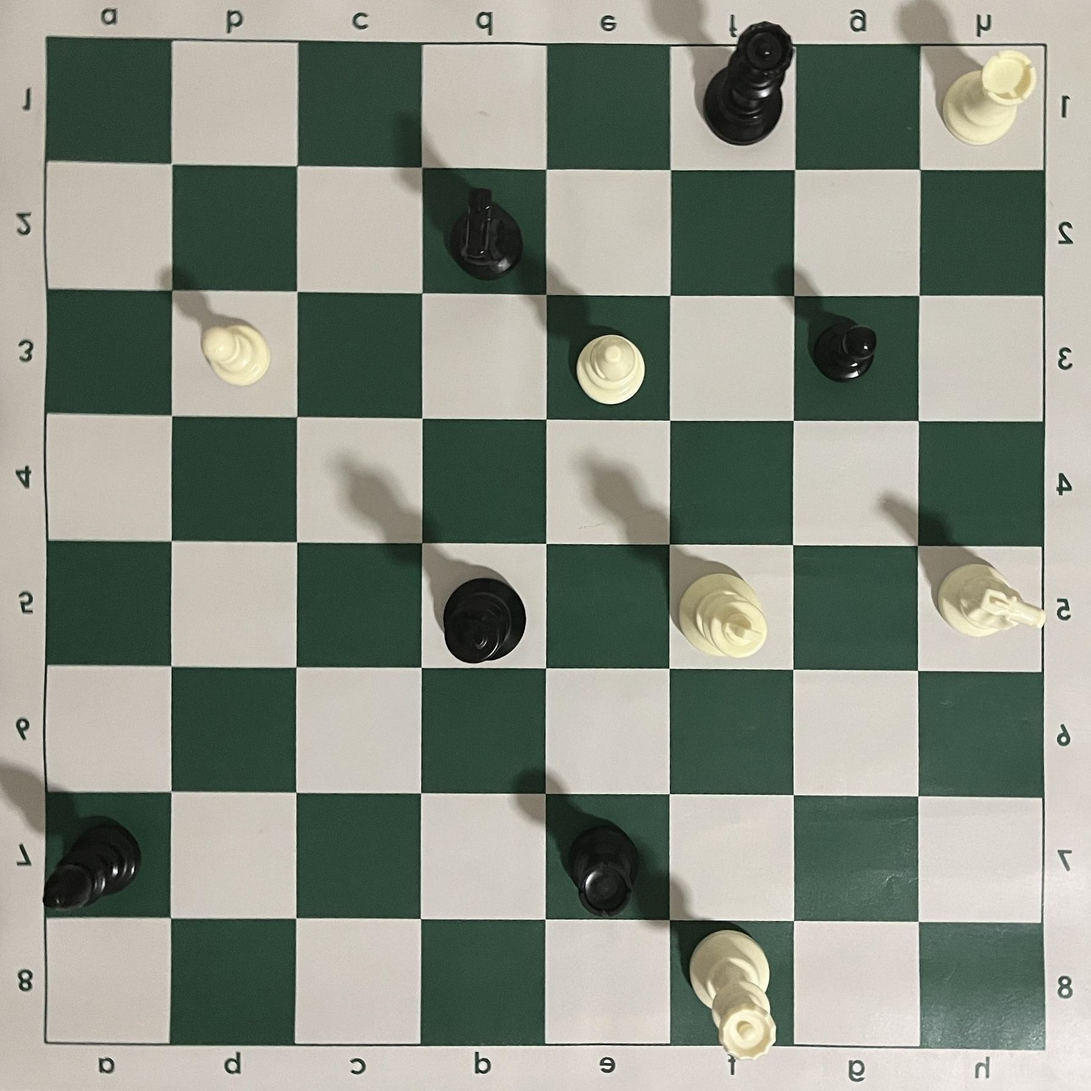black_bishop: (42, 815, 143, 912)
black_king: (442, 575, 527, 664)
black_knight: (446, 187, 524, 282)
black_pawn: (812, 318, 878, 383)
black_queen: (702, 21, 795, 146)
black_rook: (566, 823, 641, 919)
white_bishop: (576, 333, 645, 406)
white_king: (677, 571, 768, 658)
white_knight: (936, 561, 1048, 638)
white_pawn: (200, 321, 272, 387)
white_queen: (688, 929, 776, 1061)
white_rook: (941, 49, 1037, 146)
